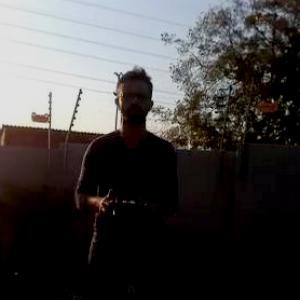follow: (64, 60, 179, 299)
